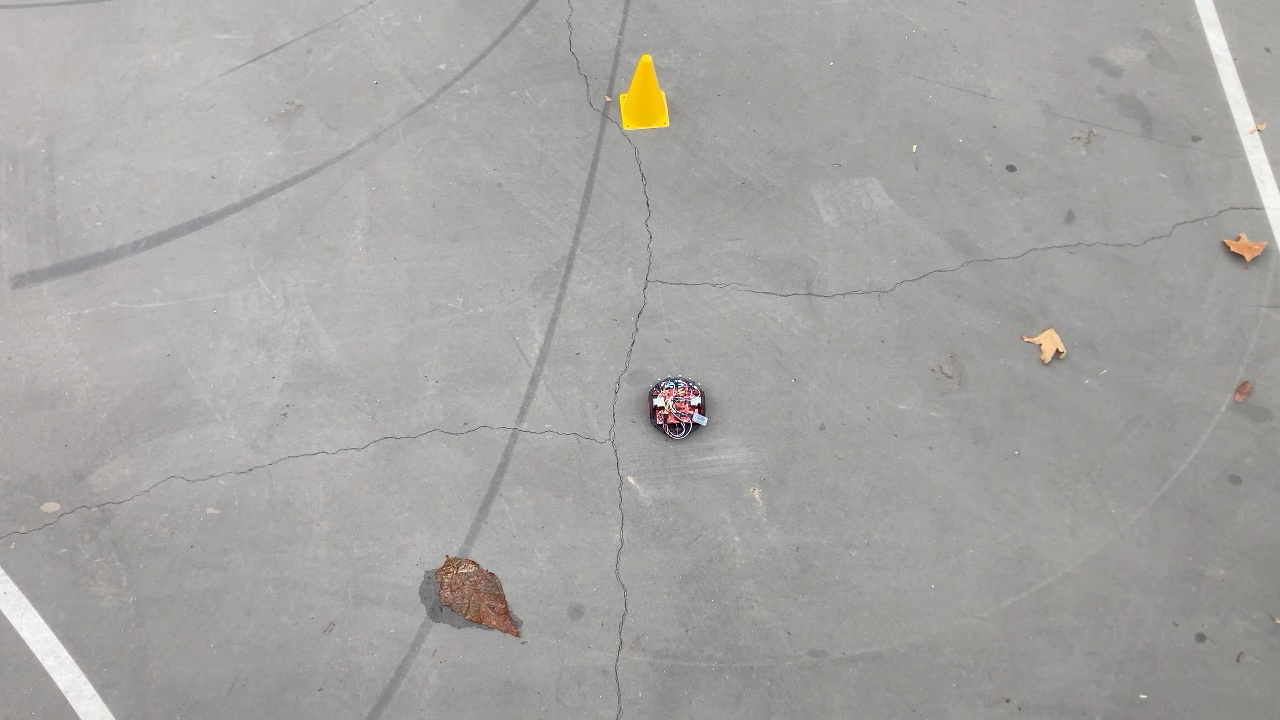robot: (645, 373, 711, 444)
yellow_cone: (615, 52, 673, 133)
